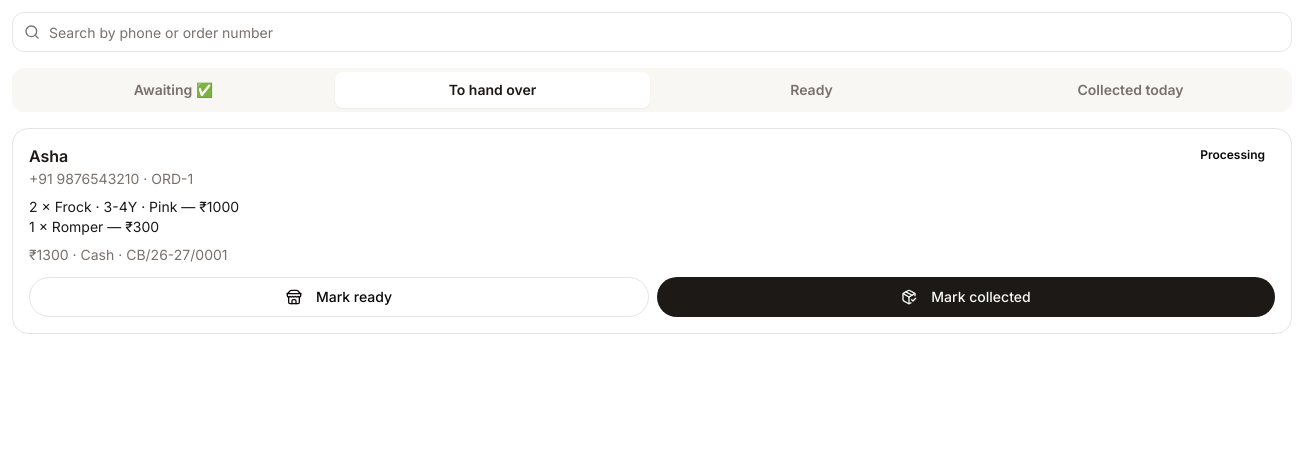
Test case: load errors (spec §5) › a failed refresh keeps the previous rows visible under the banner
Step 1. Click the button "Mark collected" → (966,297), box [657,277,1275,317]
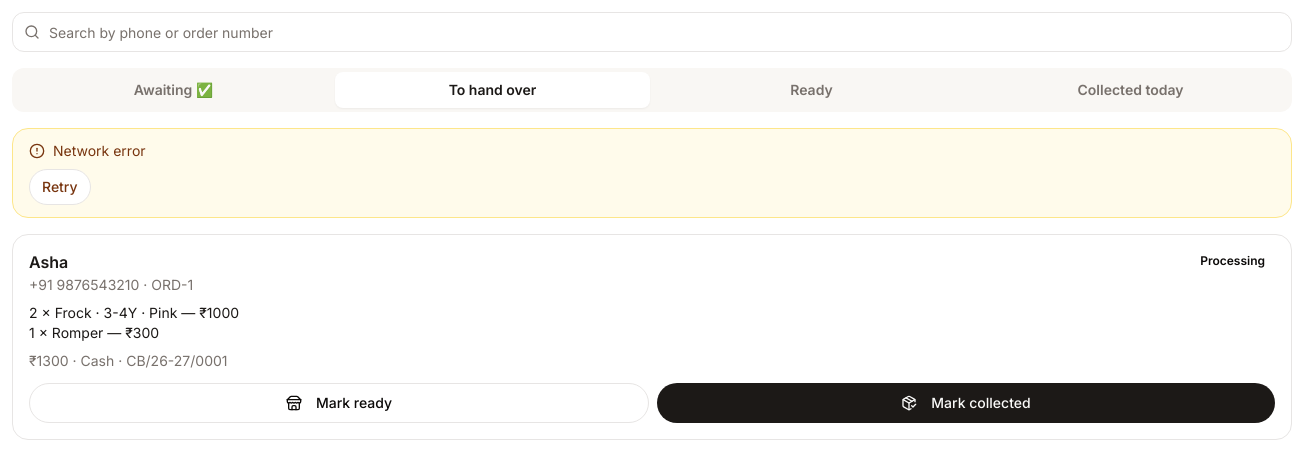
Check: the list item with test id "pickup-order-1" is shown, box [12,234,1292,440]
Check: the message shows "Network error", box [53,142,146,159]
